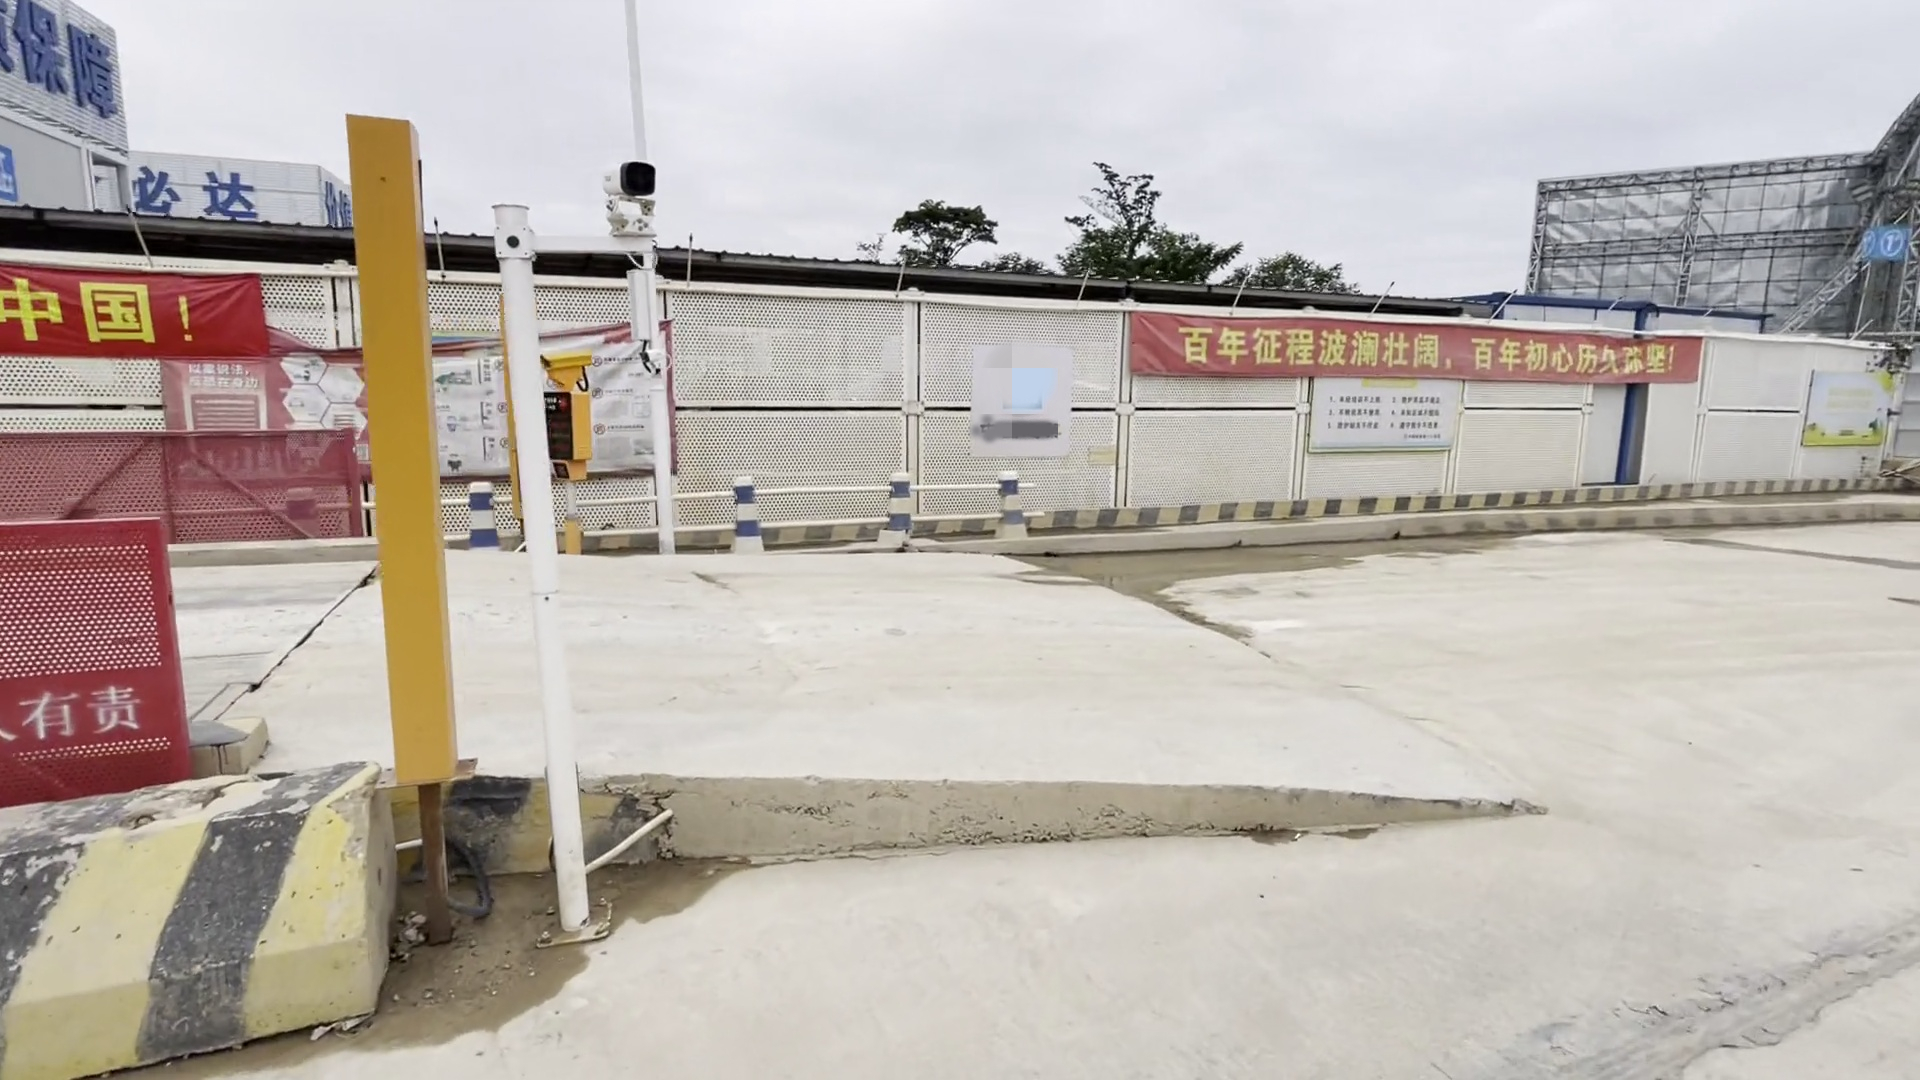fence: (3, 508, 193, 793), (3, 417, 363, 546)
slogan: (1171, 305, 1664, 380), (7, 272, 208, 345), (18, 673, 175, 742), (1312, 378, 1449, 448)
